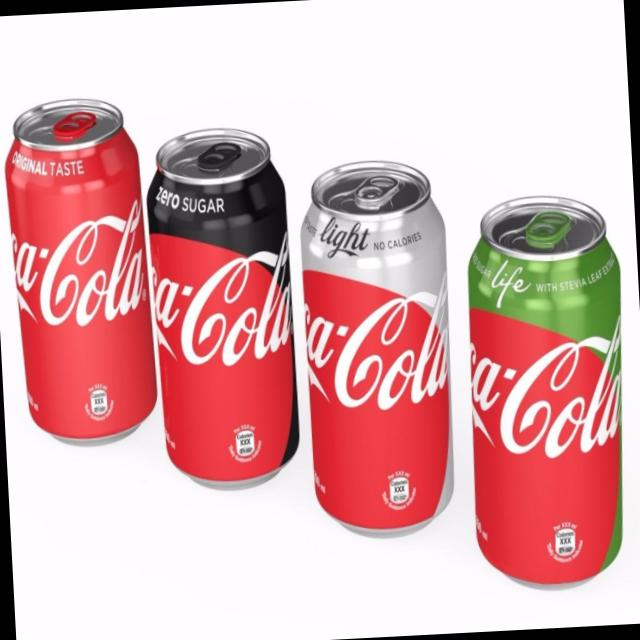cocacola: (148, 126, 308, 496), (0, 87, 159, 458)
